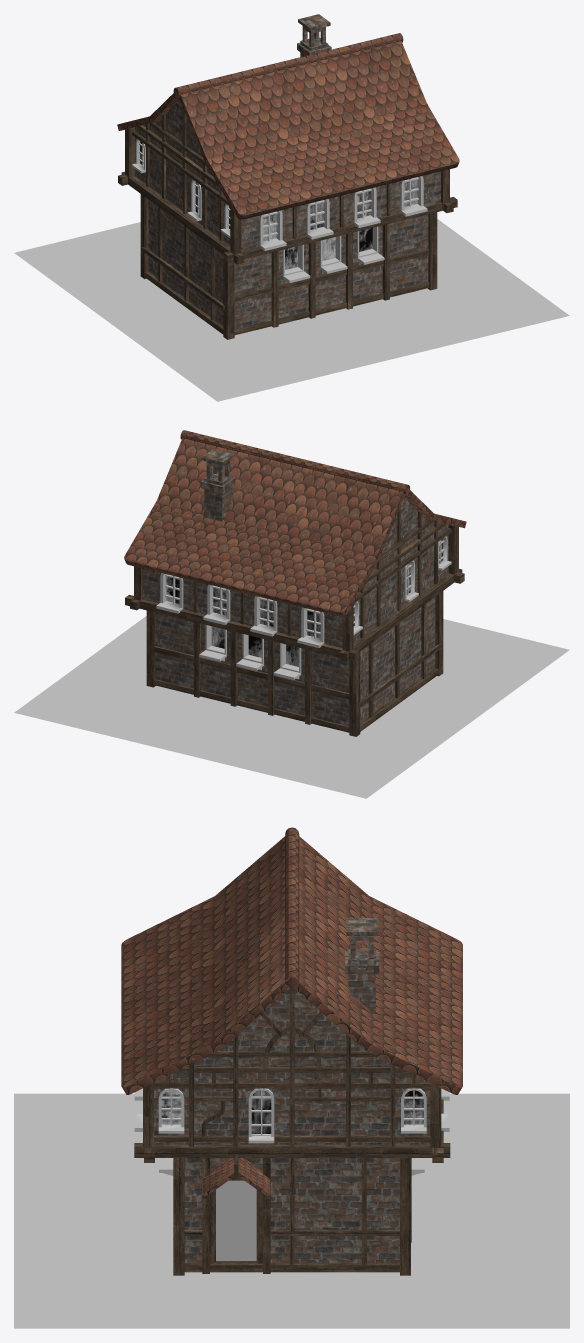
File: sketfab.fbx
The picture shows the model from 3 angles, top to bottom: view 1: azimuth 30°, elevation 25°; view 2: azimuth 150°, elevation 25°; view 3: azimuth 270°, elevation 25°; orthographic projection. The views are drawn at different scales.
Visible parts, largest first — view 1: ground, roof_H, wall_H, beam_H, window_H, smoke_H; view 2: ground, roof_H, wall_H, beam_H, window_H, smoke_H; view 3: ground, roof_H, wall_H, beam_H, window_H, door_H, smoke_H.
Boxes of the visible parts, x1,y1,x2,y2 form: ground: [14, 219, 569, 401]; roof_H: [117, 33, 459, 219]; wall_H: [135, 100, 440, 328]; beam_H: [118, 107, 457, 339]; window_H: [131, 139, 427, 282]; smoke_H: [297, 14, 331, 57]; ground: [14, 616, 569, 798]; roof_H: [124, 430, 466, 616]; wall_H: [143, 497, 448, 726]; beam_H: [125, 505, 464, 736]; window_H: [156, 536, 451, 679]; smoke_H: [201, 448, 235, 521]; ground: [14, 1093, 569, 1328]; roof_H: [121, 827, 462, 1195]; wall_H: [154, 989, 430, 1263]; beam_H: [134, 989, 450, 1275]; window_H: [134, 1088, 449, 1175]; door_H: [216, 1180, 256, 1260]; smoke_H: [345, 918, 379, 1012].
Size of the model in its own units: 15 by 9.47 by 15.
